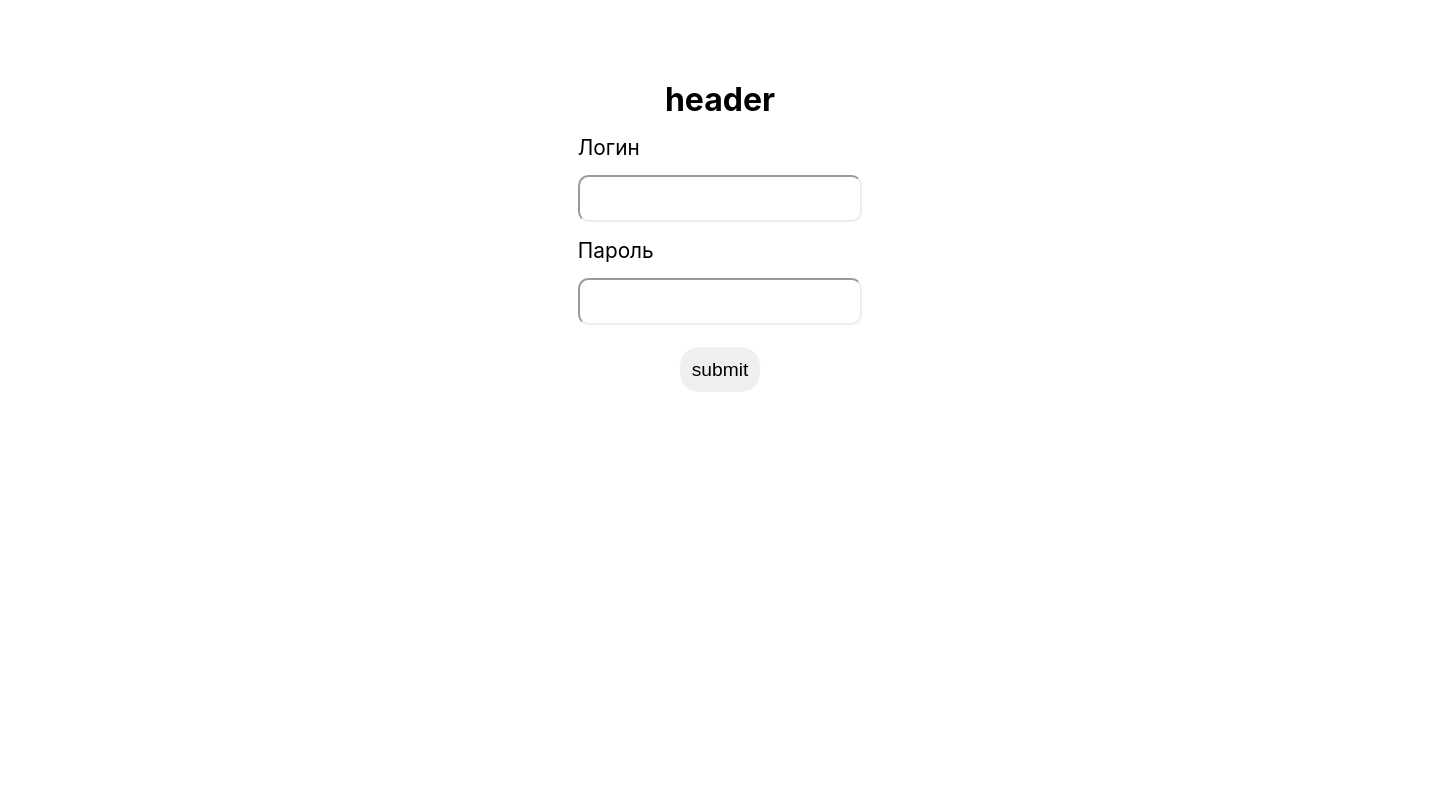
Test: UserCredentials test › should be able to close popup on failed submit and fields should be cleared
The width and height of the screenshot is (1440, 810).
Step 1. Submit the form from the button "submit", box [680, 347, 760, 392]
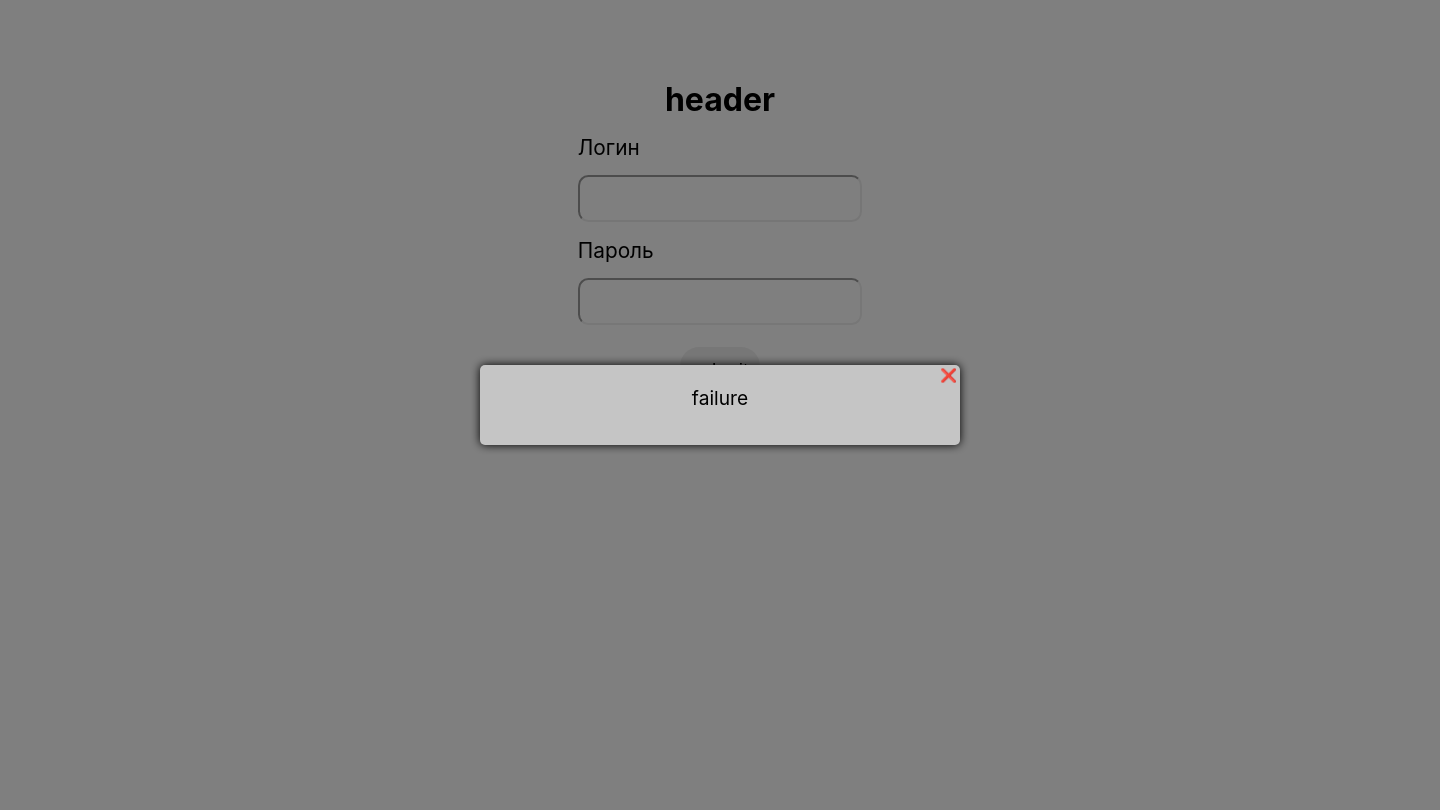
Check: the button with class "DeleteButton" is shown
Step 2. Click the button with class "DeleteButton" → (948, 376), box [940, 368, 957, 383]
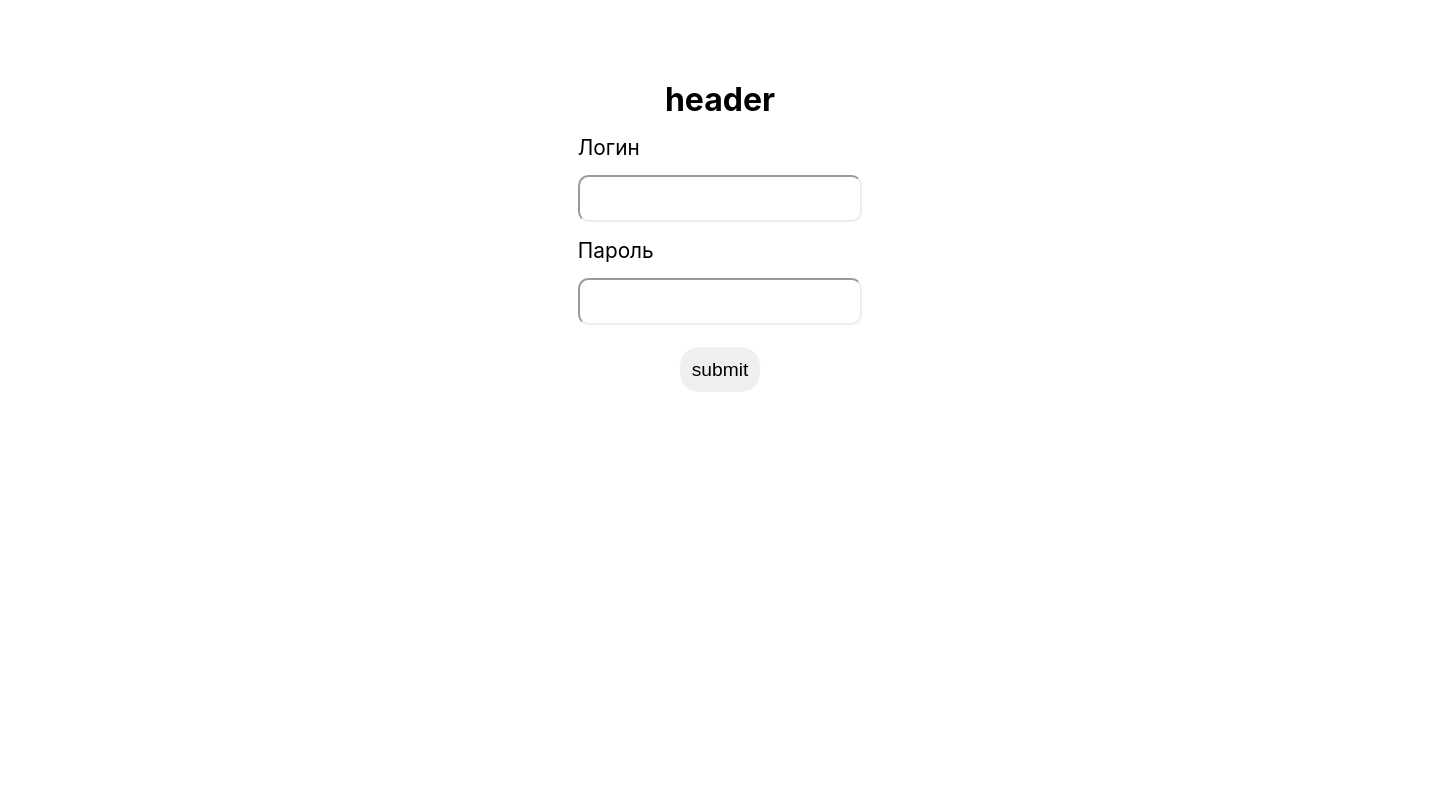
Check: the field is empty, box [578, 174, 862, 222]
Check: the text "failure" is gone
